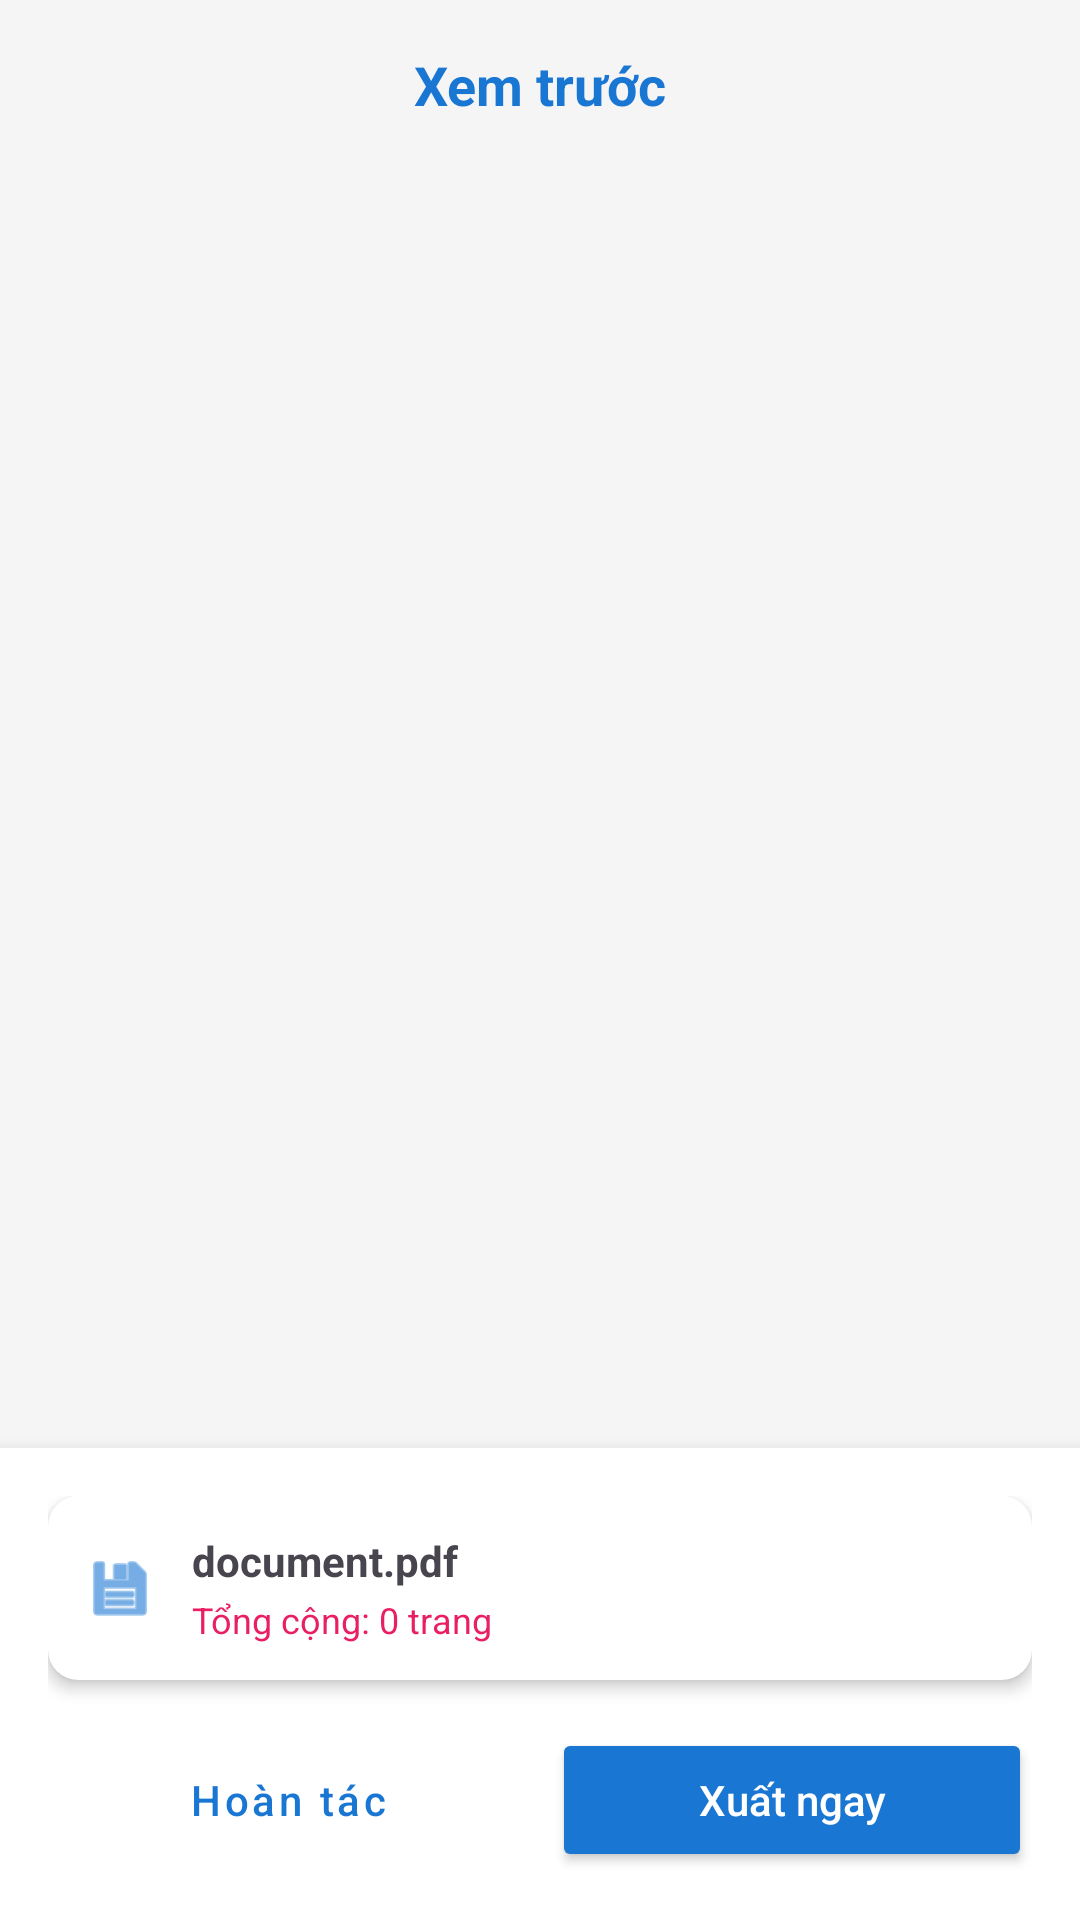

Named icons in this screenshot (1080px×1920px) and their centers, (x=x, y=y):
save: (x=120, y=1588)
